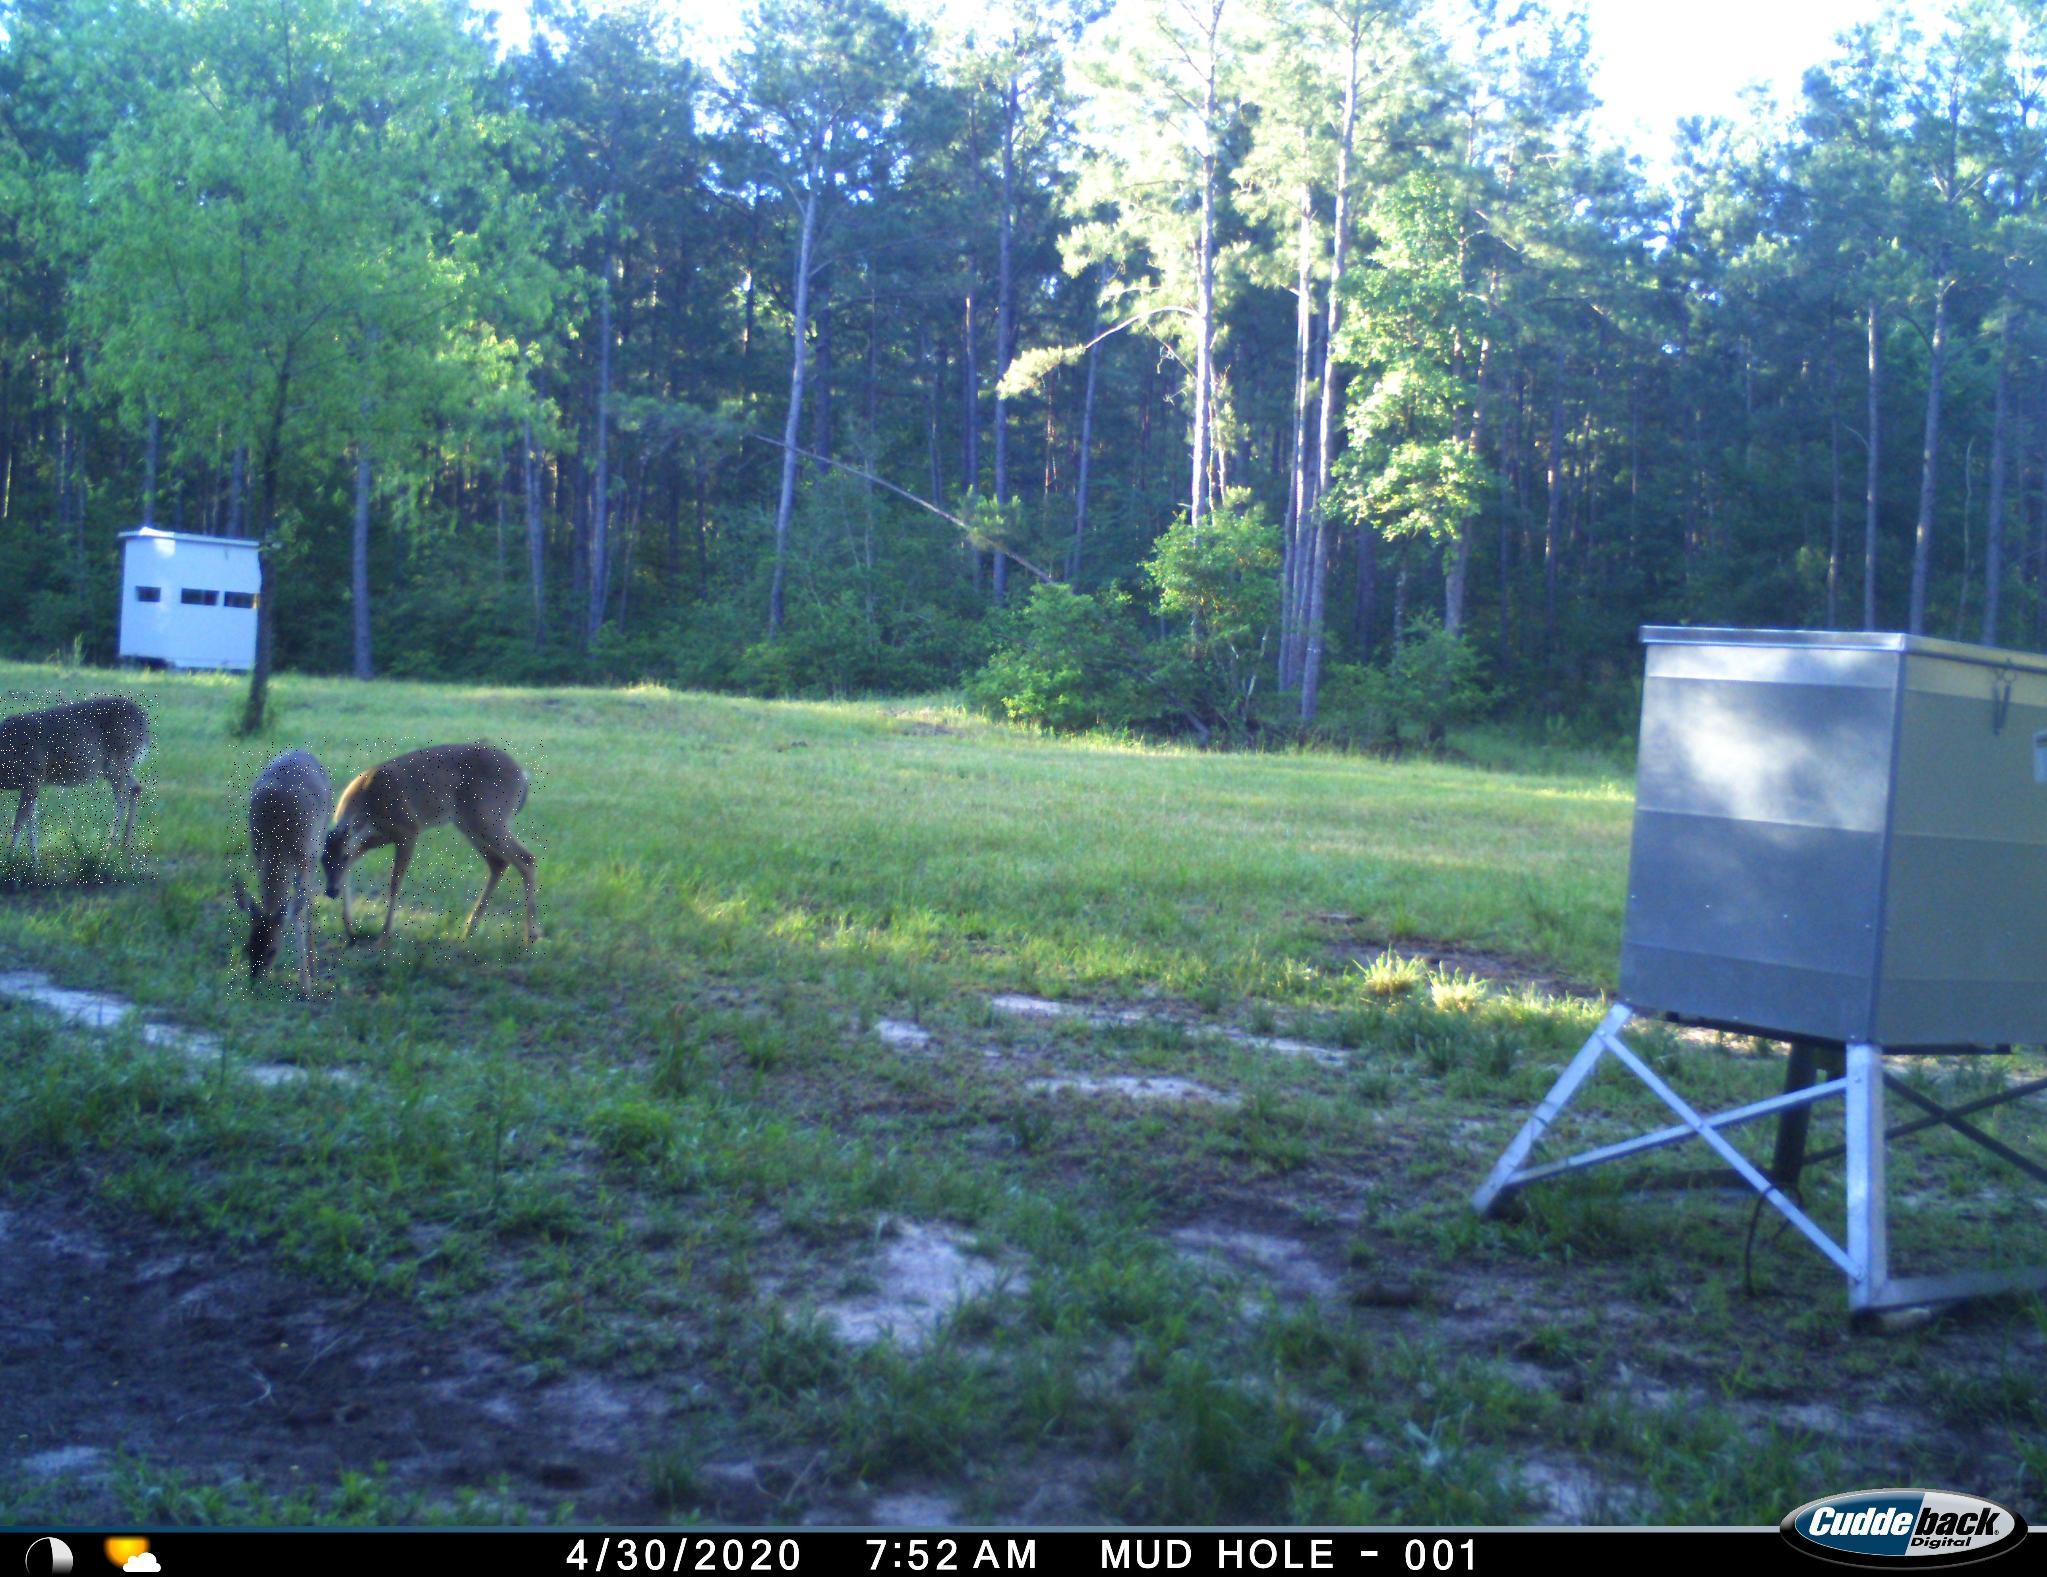Deer: (320, 737, 548, 967), (0, 691, 157, 886), (227, 742, 335, 1002)
